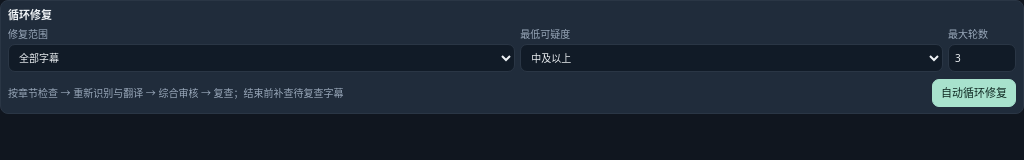
bounded repair controls › rejects invalid round input -1
Replace the text in the number field named "自动修复最大轮数" with "-1". click: {"x": 982, "y": 58}
box: [948, 44, 1016, 72]
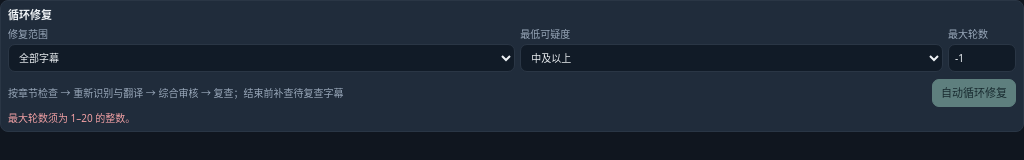
Expected: the button "自动循环修复" is disabled, [932, 79, 1016, 107]
Expected: the message shows "1–20", [8, 111, 135, 125]
